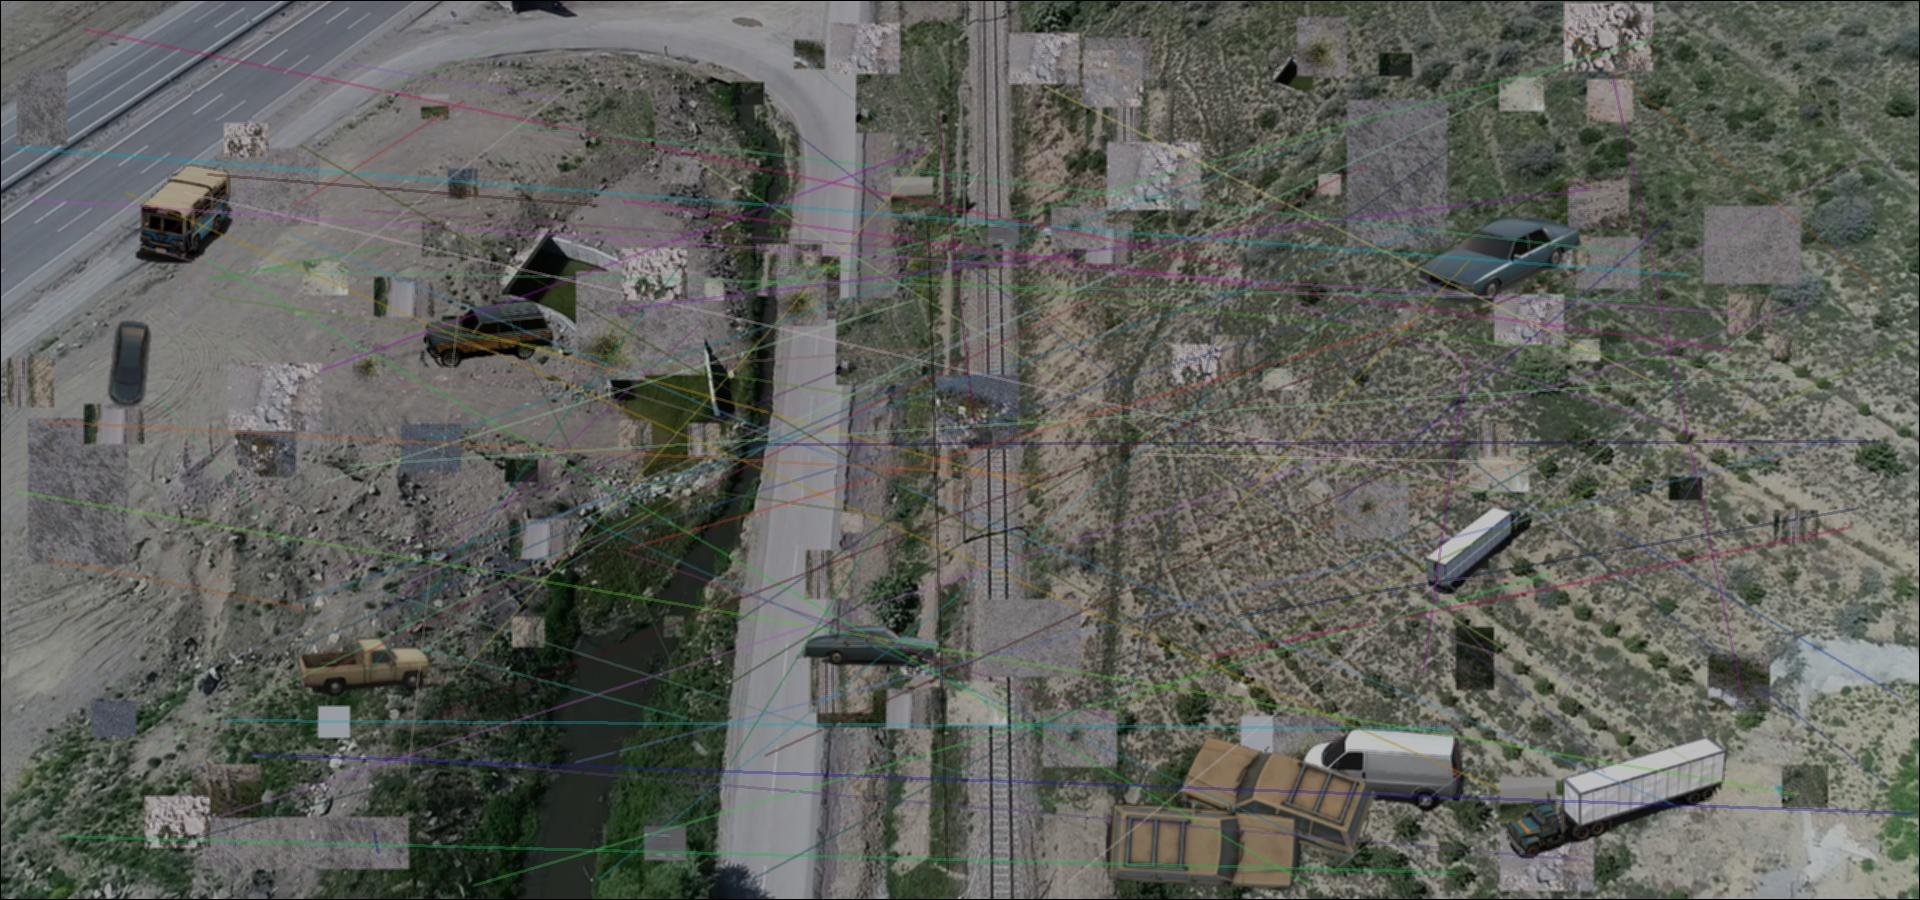arac: (1502, 733, 1738, 858), (1179, 730, 1378, 869), (1104, 800, 1309, 898), (1417, 216, 1582, 305), (1303, 727, 1464, 812), (1419, 503, 1532, 594), (136, 164, 234, 263), (418, 298, 553, 367), (298, 636, 432, 700), (796, 623, 945, 669), (96, 318, 151, 409)
